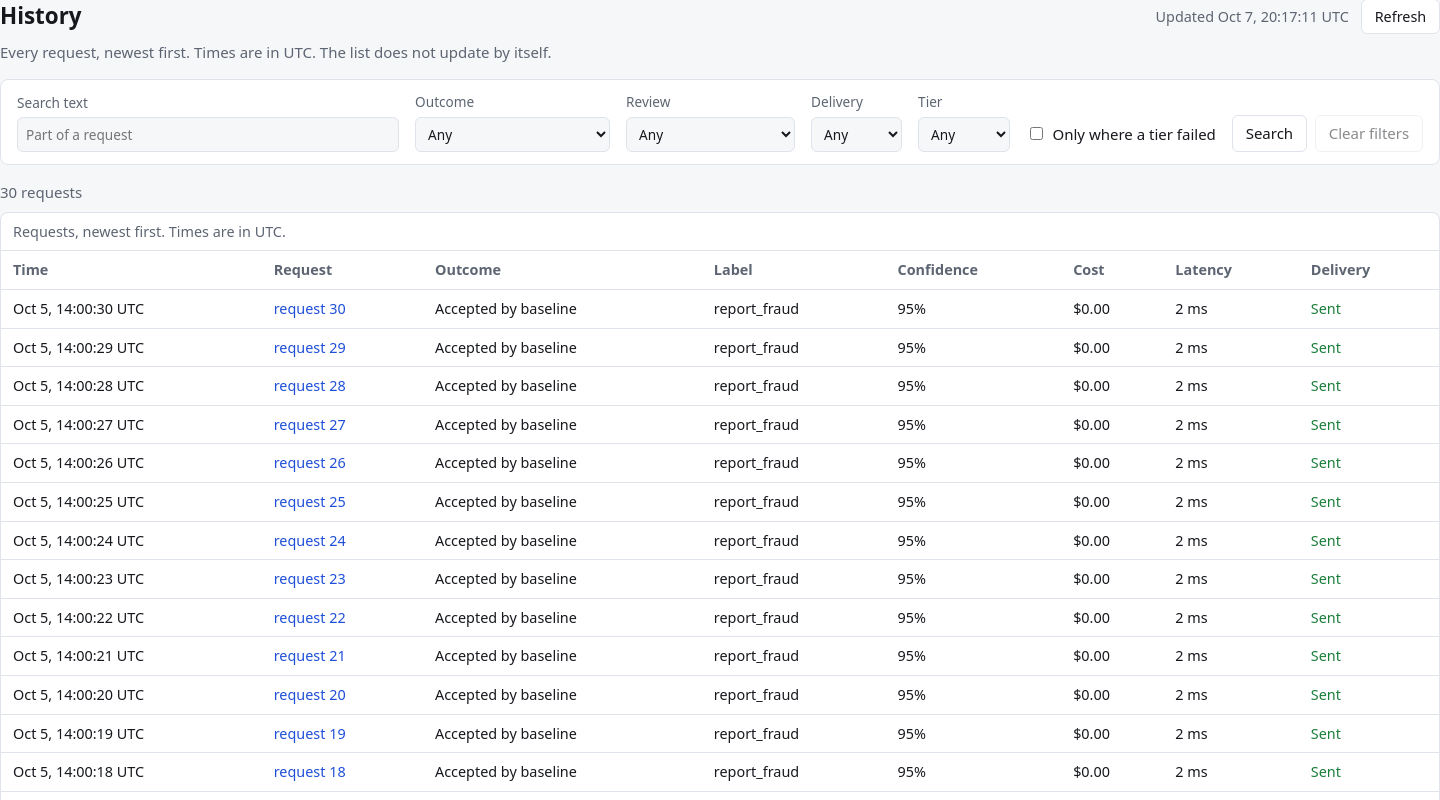
Test: paging › closes an open row when the page changes
Click the button named "show details". click: (310, 309)
box: 274,298 -> 346,320
(page scrolled)
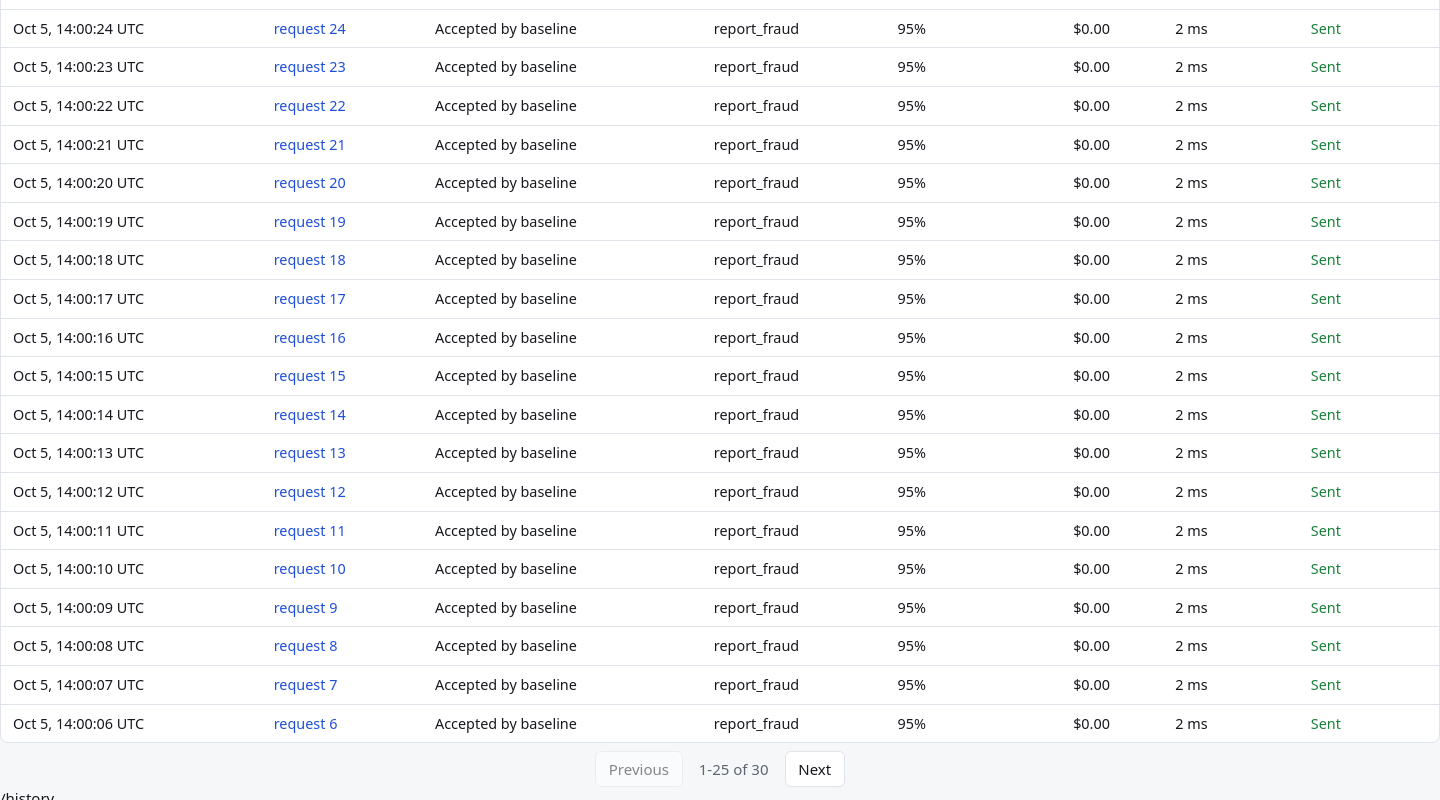
Click the button "Next". click: (815, 769)
box: 784,751 -> 845,787
(page scrolled)
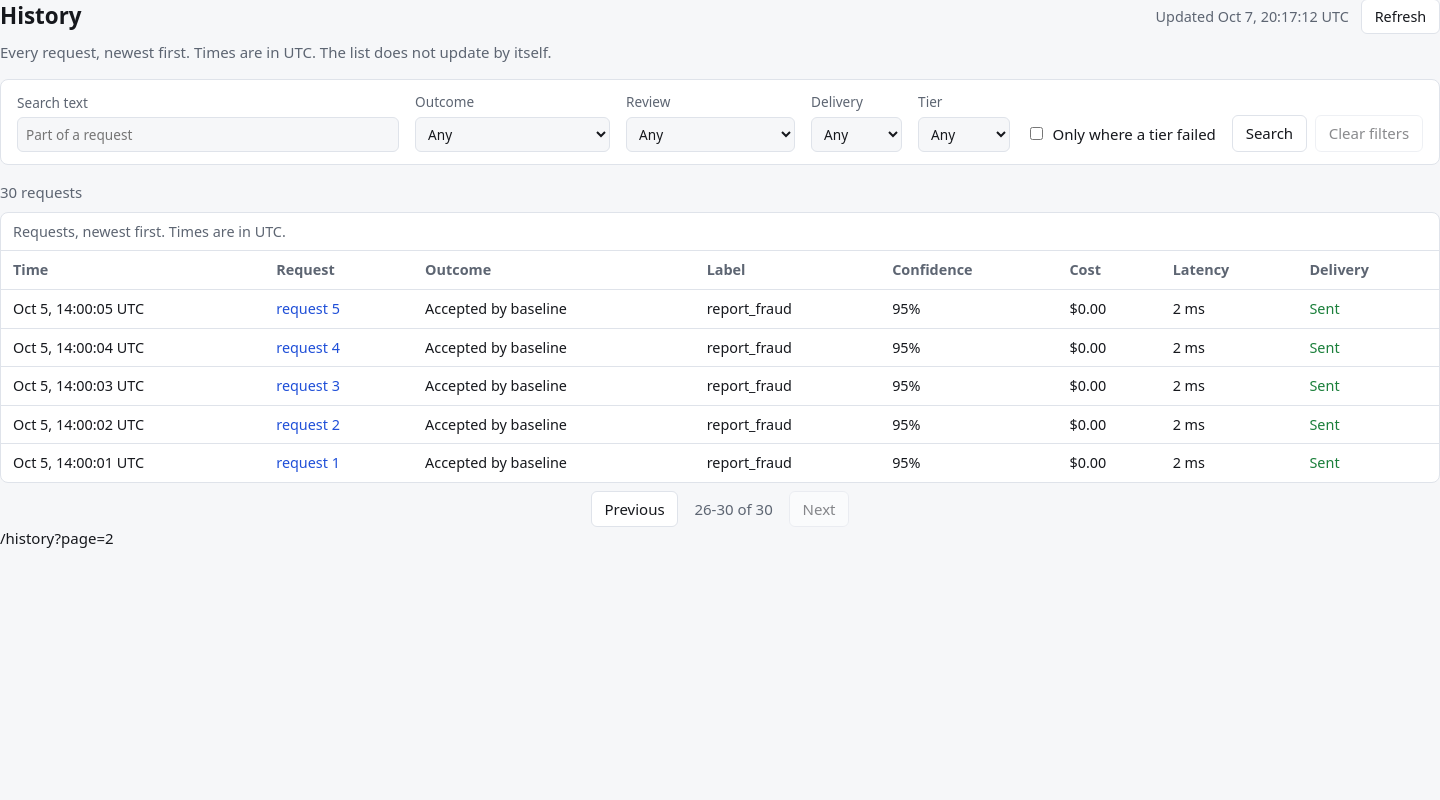
Expected: the button "request 25" is not shown
Now the text "26-30 of 30" is shown, box 694,498 -> 773,520
